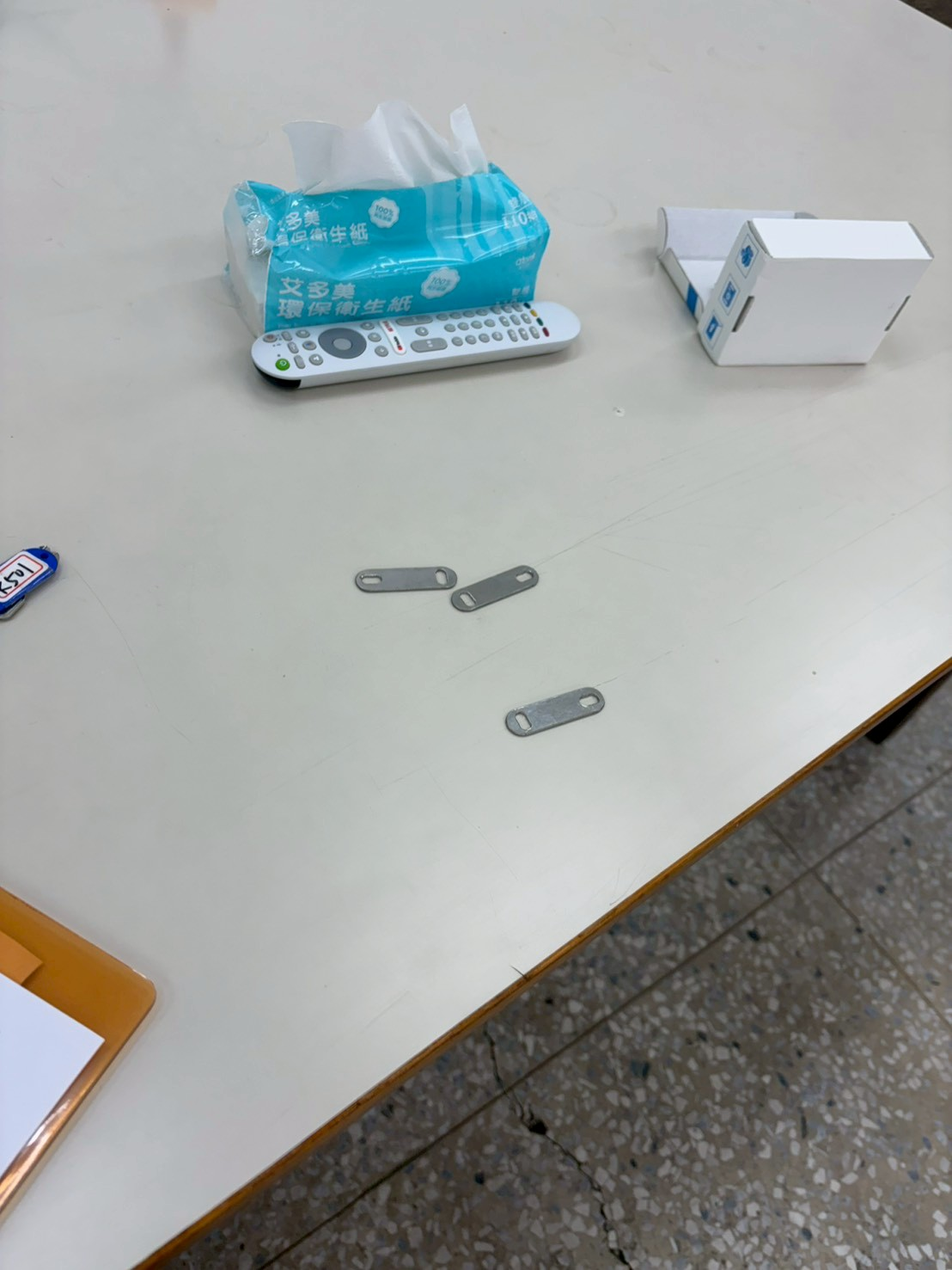Fe: (500, 714, 604, 747), (351, 567, 459, 594), (446, 594, 538, 622)
